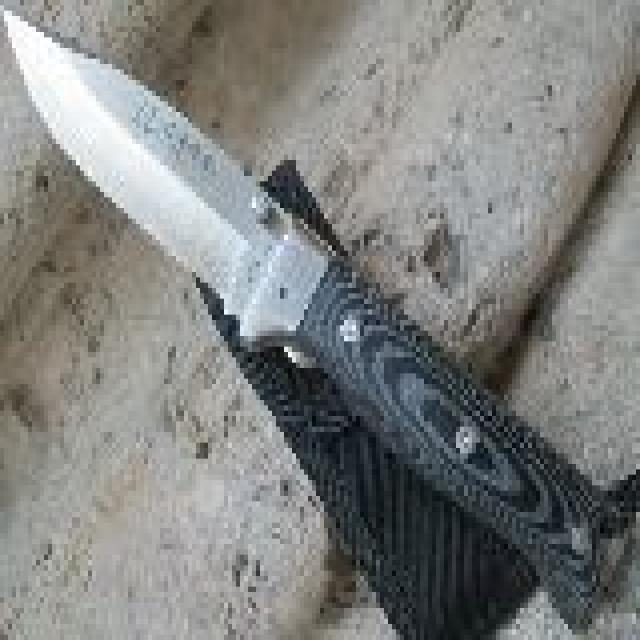Knife: (5, 6, 617, 582)
